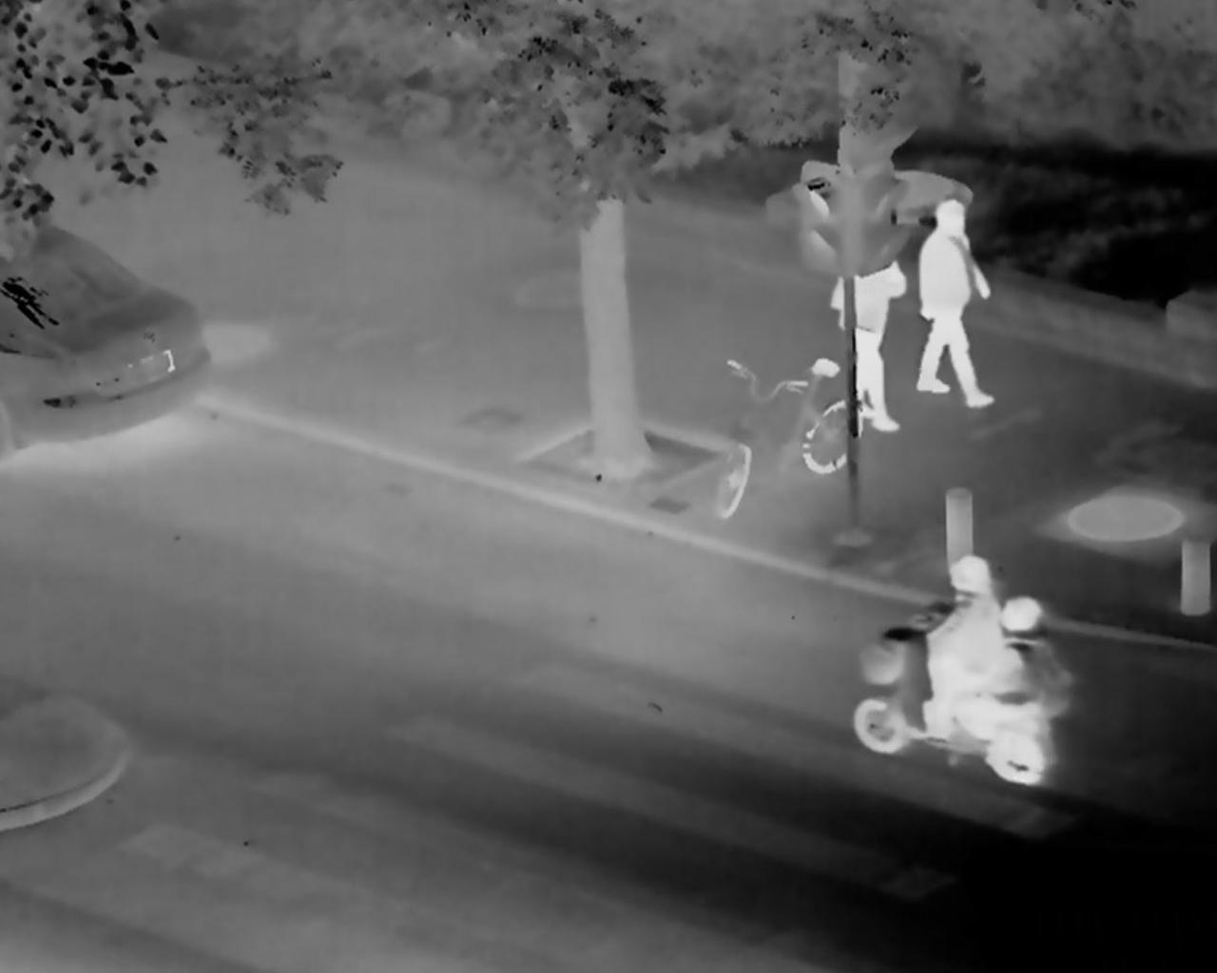person: (913, 198, 997, 408), (913, 553, 995, 755), (833, 217, 907, 432), (986, 590, 1067, 759)
